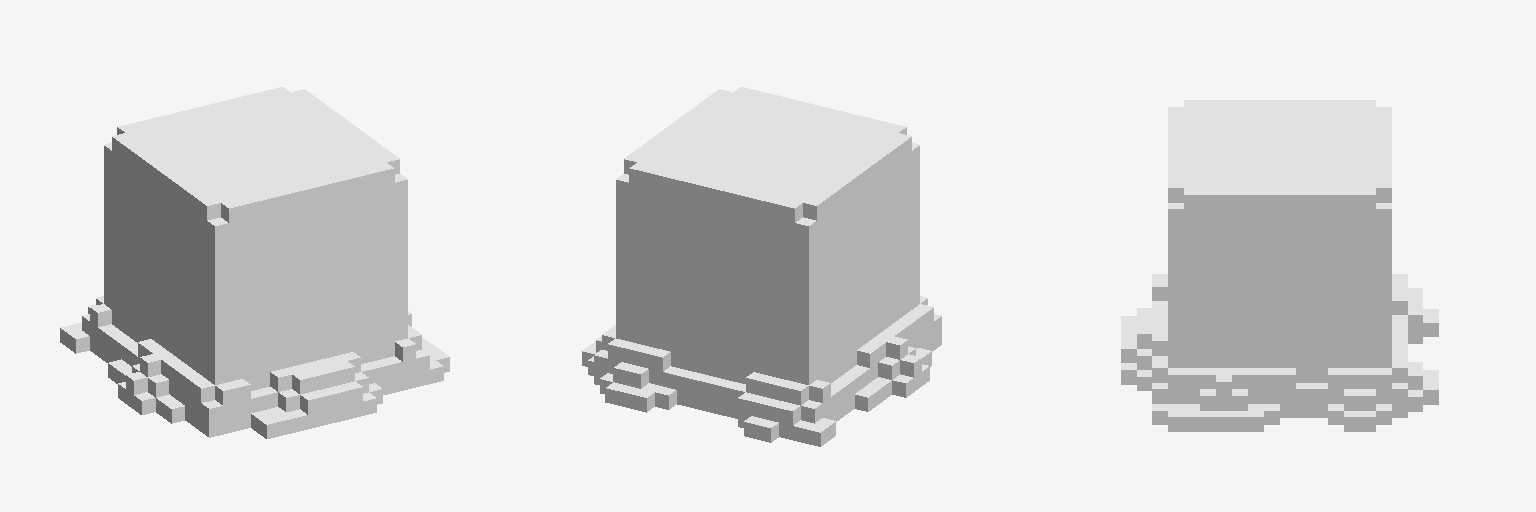
The model's file is slimePrototype.obj.
3 renders of one model, left to right at view 1: azimuth 30°, elevation 25°; view 2: azimuth 150°, elevation 25°; view 3: azimuth 270°, elevation 25°, orthographic.
Parts seen in each view (by area): view 1: object 1; view 2: object 1; view 3: object 1.
Part boxes in pixels (left/top/right/bottom): object 1: left=60, top=87, right=449, bottom=438; object 1: left=582, top=87, right=941, bottom=446; object 1: left=1121, top=100, right=1438, bottom=431.
Bounding box in the file's own units: 2 × 1.5 × 2.